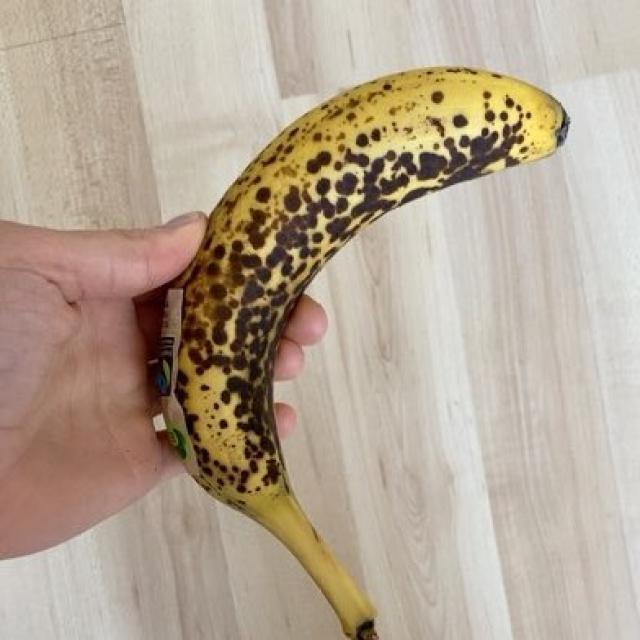banana: (161, 70, 564, 628)
